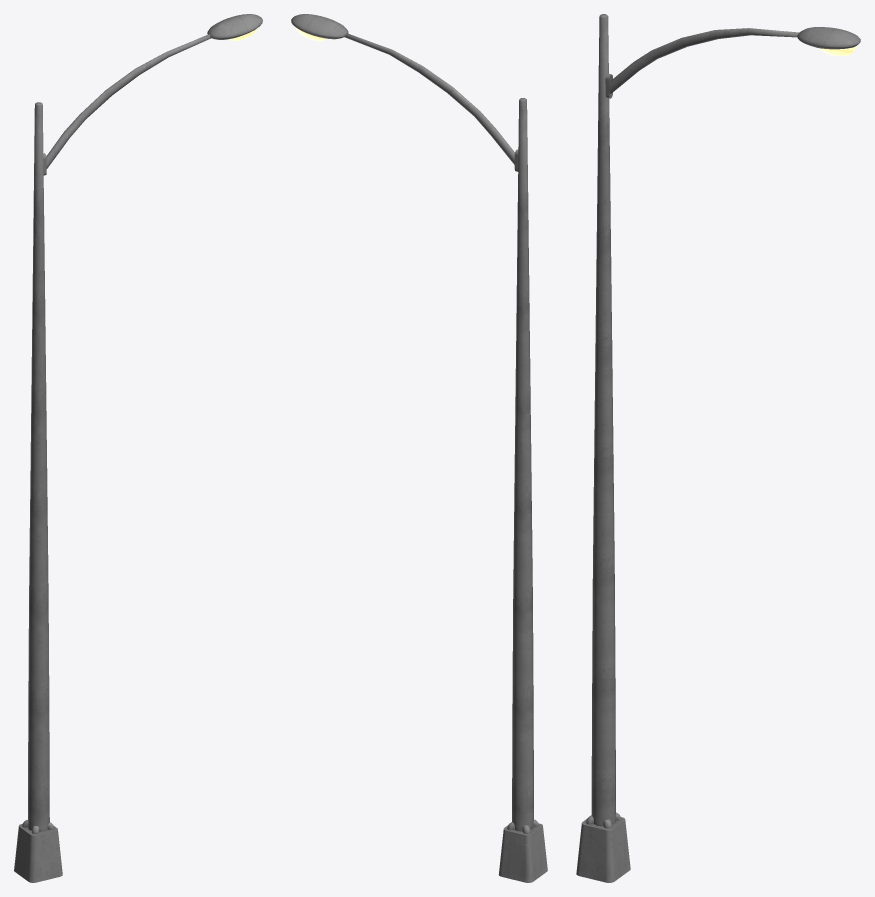
The model's file is lamp1.glb.
3 views of the same model, side by side, from view 1: azimuth 30°, elevation 25°; view 2: azimuth 150°, elevation 25°; view 3: azimuth 330°, elevation 25° (orthographic). The views are drawn at different scales.
Parts seen in each view (by area): view 1: post1, lamp1; view 2: post1, lamp1; view 3: post1, lamp1.
Part boxes in pixels (bbox=[...]): post1: bbox=[14, 102, 62, 882]; lamp1: bbox=[43, 14, 262, 175]; post1: bbox=[498, 98, 547, 882]; lamp1: bbox=[291, 14, 518, 171]; post1: bbox=[576, 14, 630, 882]; lamp1: bbox=[605, 27, 860, 98].
Size of the model in its own units: 2.57 by 8.13 by 0.3953.
Materials: 1 (1 with a texture image).
